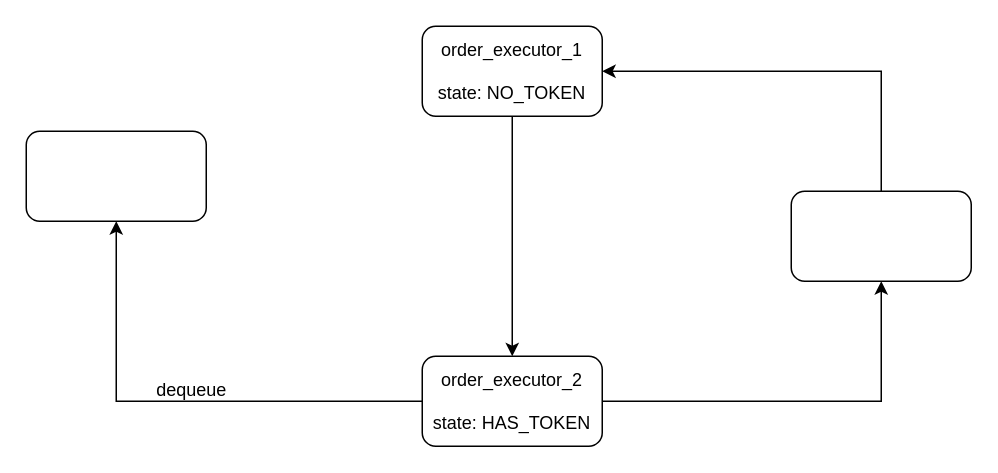
The diagram is 998 pixels wide and 473 high, and some of its shapes have lost their labels. The shapes that lost their labels are listed below. From the top down, each one's centre as x and y in pixels, then its label:
the point at 115,175: Order queue
the point at 880,235: order_executor_0 state: NO_TOKEN
